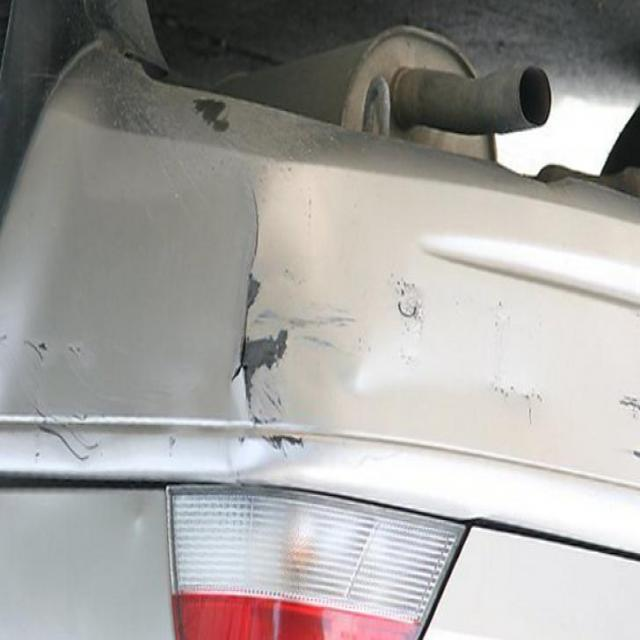scratch: (222, 152, 316, 464), (157, 65, 236, 130)
